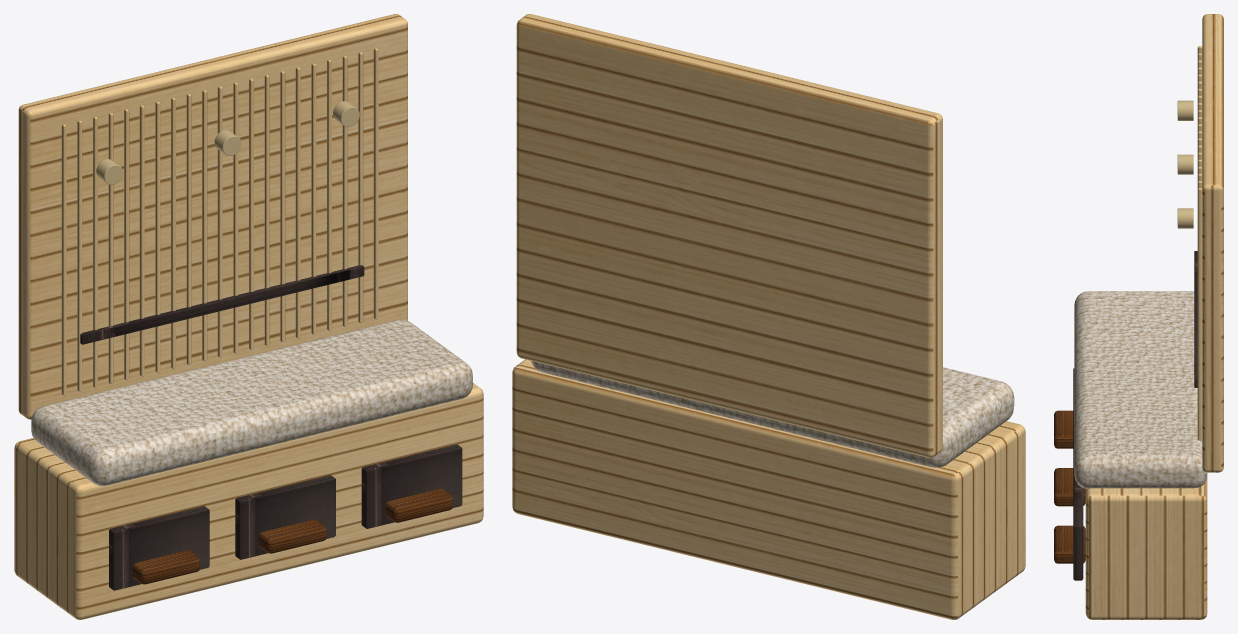
The model's file is hp_furniture_residential_entry_bench_cubby_v1.glb.
3 renders of one model, left to right at view 1: azimuth 30°, elevation 25°; view 2: azimuth 150°, elevation 25°; view 3: azimuth 270°, elevation 25°, orthographic. The views are drawn at different scales.
Parts seen in each view (by area): view 1: tall_oak_wall_back_panel, low_pale_oak_storage_body, soft_ivory_bench_cushion, open_shoe_cubby_shadow_+0.5, open_shoe_cubby_shadow_-0.5, open_shoe_cubby_shadow_+0.0, over_regular_lower_service_shadow_gap, entry_back_panel_vertical_flute_20, entry_back_panel_vertical_flute_00, entry_back_panel_vertical_flute_01, entry_back_panel_vertical_flute_09, entry_back_panel_vertical_flute_04 (+19 smaller); view 2: tall_oak_wall_back_panel, low_pale_oak_storage_body, soft_ivory_bench_cushion; view 3: soft_ivory_bench_cushion, low_pale_oak_storage_body, tall_oak_wall_back_panel, entry_back_panel_vertical_flute_20, open_shoe_cubby_shadow_+0.5, quiet_pair_of_low_shoes_+0.5, quiet_pair_of_low_shoes_+0.0, quiet_pair_of_low_shoes_-0.5, over_regular_lower_service_shadow_gap, round_muted_brass_wall_peg.001, round_muted_brass_wall_peg, round_muted_brass_wall_peg.002.
Part boxes in pixels (<box>): tall_oak_wall_back_panel: <box>18,14,407,419</box>; low_pale_oak_storage_body: <box>14,383,483,619</box>; soft_ivory_bench_cushion: <box>31,319,472,486</box>; open_shoe_cubby_shadow_+0.5: <box>361,444,462,528</box>; open_shoe_cubby_shadow_-0.5: <box>109,506,209,590</box>; open_shoe_cubby_shadow_+0.0: <box>235,475,335,559</box>; over_regular_lower_service_shadow_gap: <box>80,265,364,344</box>; entry_back_panel_vertical_flute_20: <box>373,48,378,319</box>; entry_back_panel_vertical_flute_00: <box>61,124,66,395</box>; entry_back_panel_vertical_flute_01: <box>77,120,82,391</box>; entry_back_panel_vertical_flute_09: <box>202,90,207,361</box>; entry_back_panel_vertical_flute_04: <box>124,109,129,380</box>; tall_oak_wall_back_panel: <box>516,14,942,457</box>; low_pale_oak_storage_body: <box>512,359,1025,619</box>; soft_ivory_bench_cushion: <box>531,361,1014,467</box>; soft_ivory_bench_cushion: <box>1074,291,1207,488</box>; low_pale_oak_storage_body: <box>1085,476,1207,619</box>; tall_oak_wall_back_panel: <box>1202,14,1223,472</box>; entry_back_panel_vertical_flute_20: <box>1197,188,1202,440</box>; open_shoe_cubby_shadow_+0.5: <box>1073,482,1083,580</box>; quiet_pair_of_low_shoes_+0.5: <box>1054,525,1085,563</box>; quiet_pair_of_low_shoes_+0.0: <box>1054,468,1085,506</box>; quiet_pair_of_low_shoes_-0.5: <box>1054,410,1073,448</box>; over_regular_lower_service_shadow_gap: <box>1194,251,1197,387</box>; round_muted_brass_wall_peg.001: <box>1177,154,1193,174</box>; round_muted_brass_wall_peg: <box>1177,100,1193,120</box>; round_muted_brass_wall_peg.002: <box>1177,208,1193,228</box>.
Size of the model in its own units: 1.52 by 1.64 by 0.5875.
6 materials, 5 textured.
